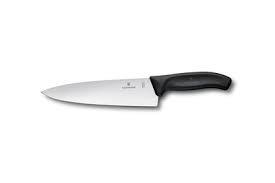Knife: (40, 70, 232, 107)
